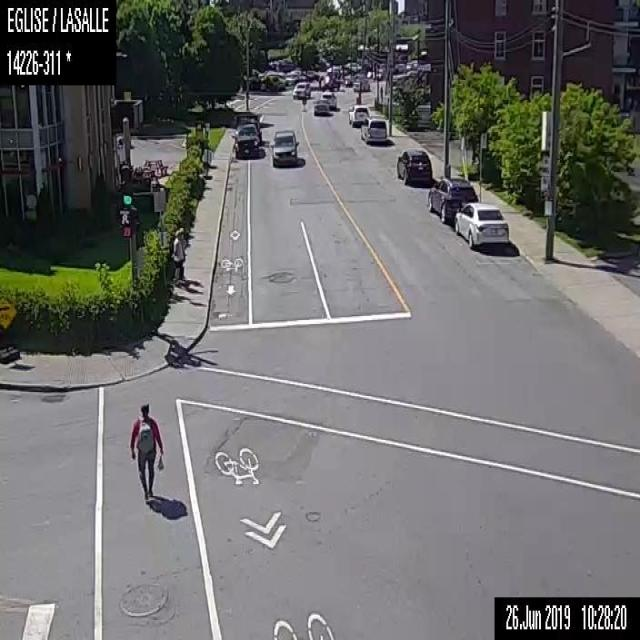pedestrian: (127, 402, 165, 498), (172, 227, 184, 284)
vehicle: (451, 201, 509, 248), (425, 174, 479, 223), (394, 145, 433, 188), (268, 125, 299, 168), (231, 126, 262, 157), (359, 114, 387, 143), (232, 111, 262, 137), (346, 101, 372, 125), (291, 80, 311, 99), (311, 98, 331, 116), (320, 91, 338, 109), (352, 76, 370, 92)
